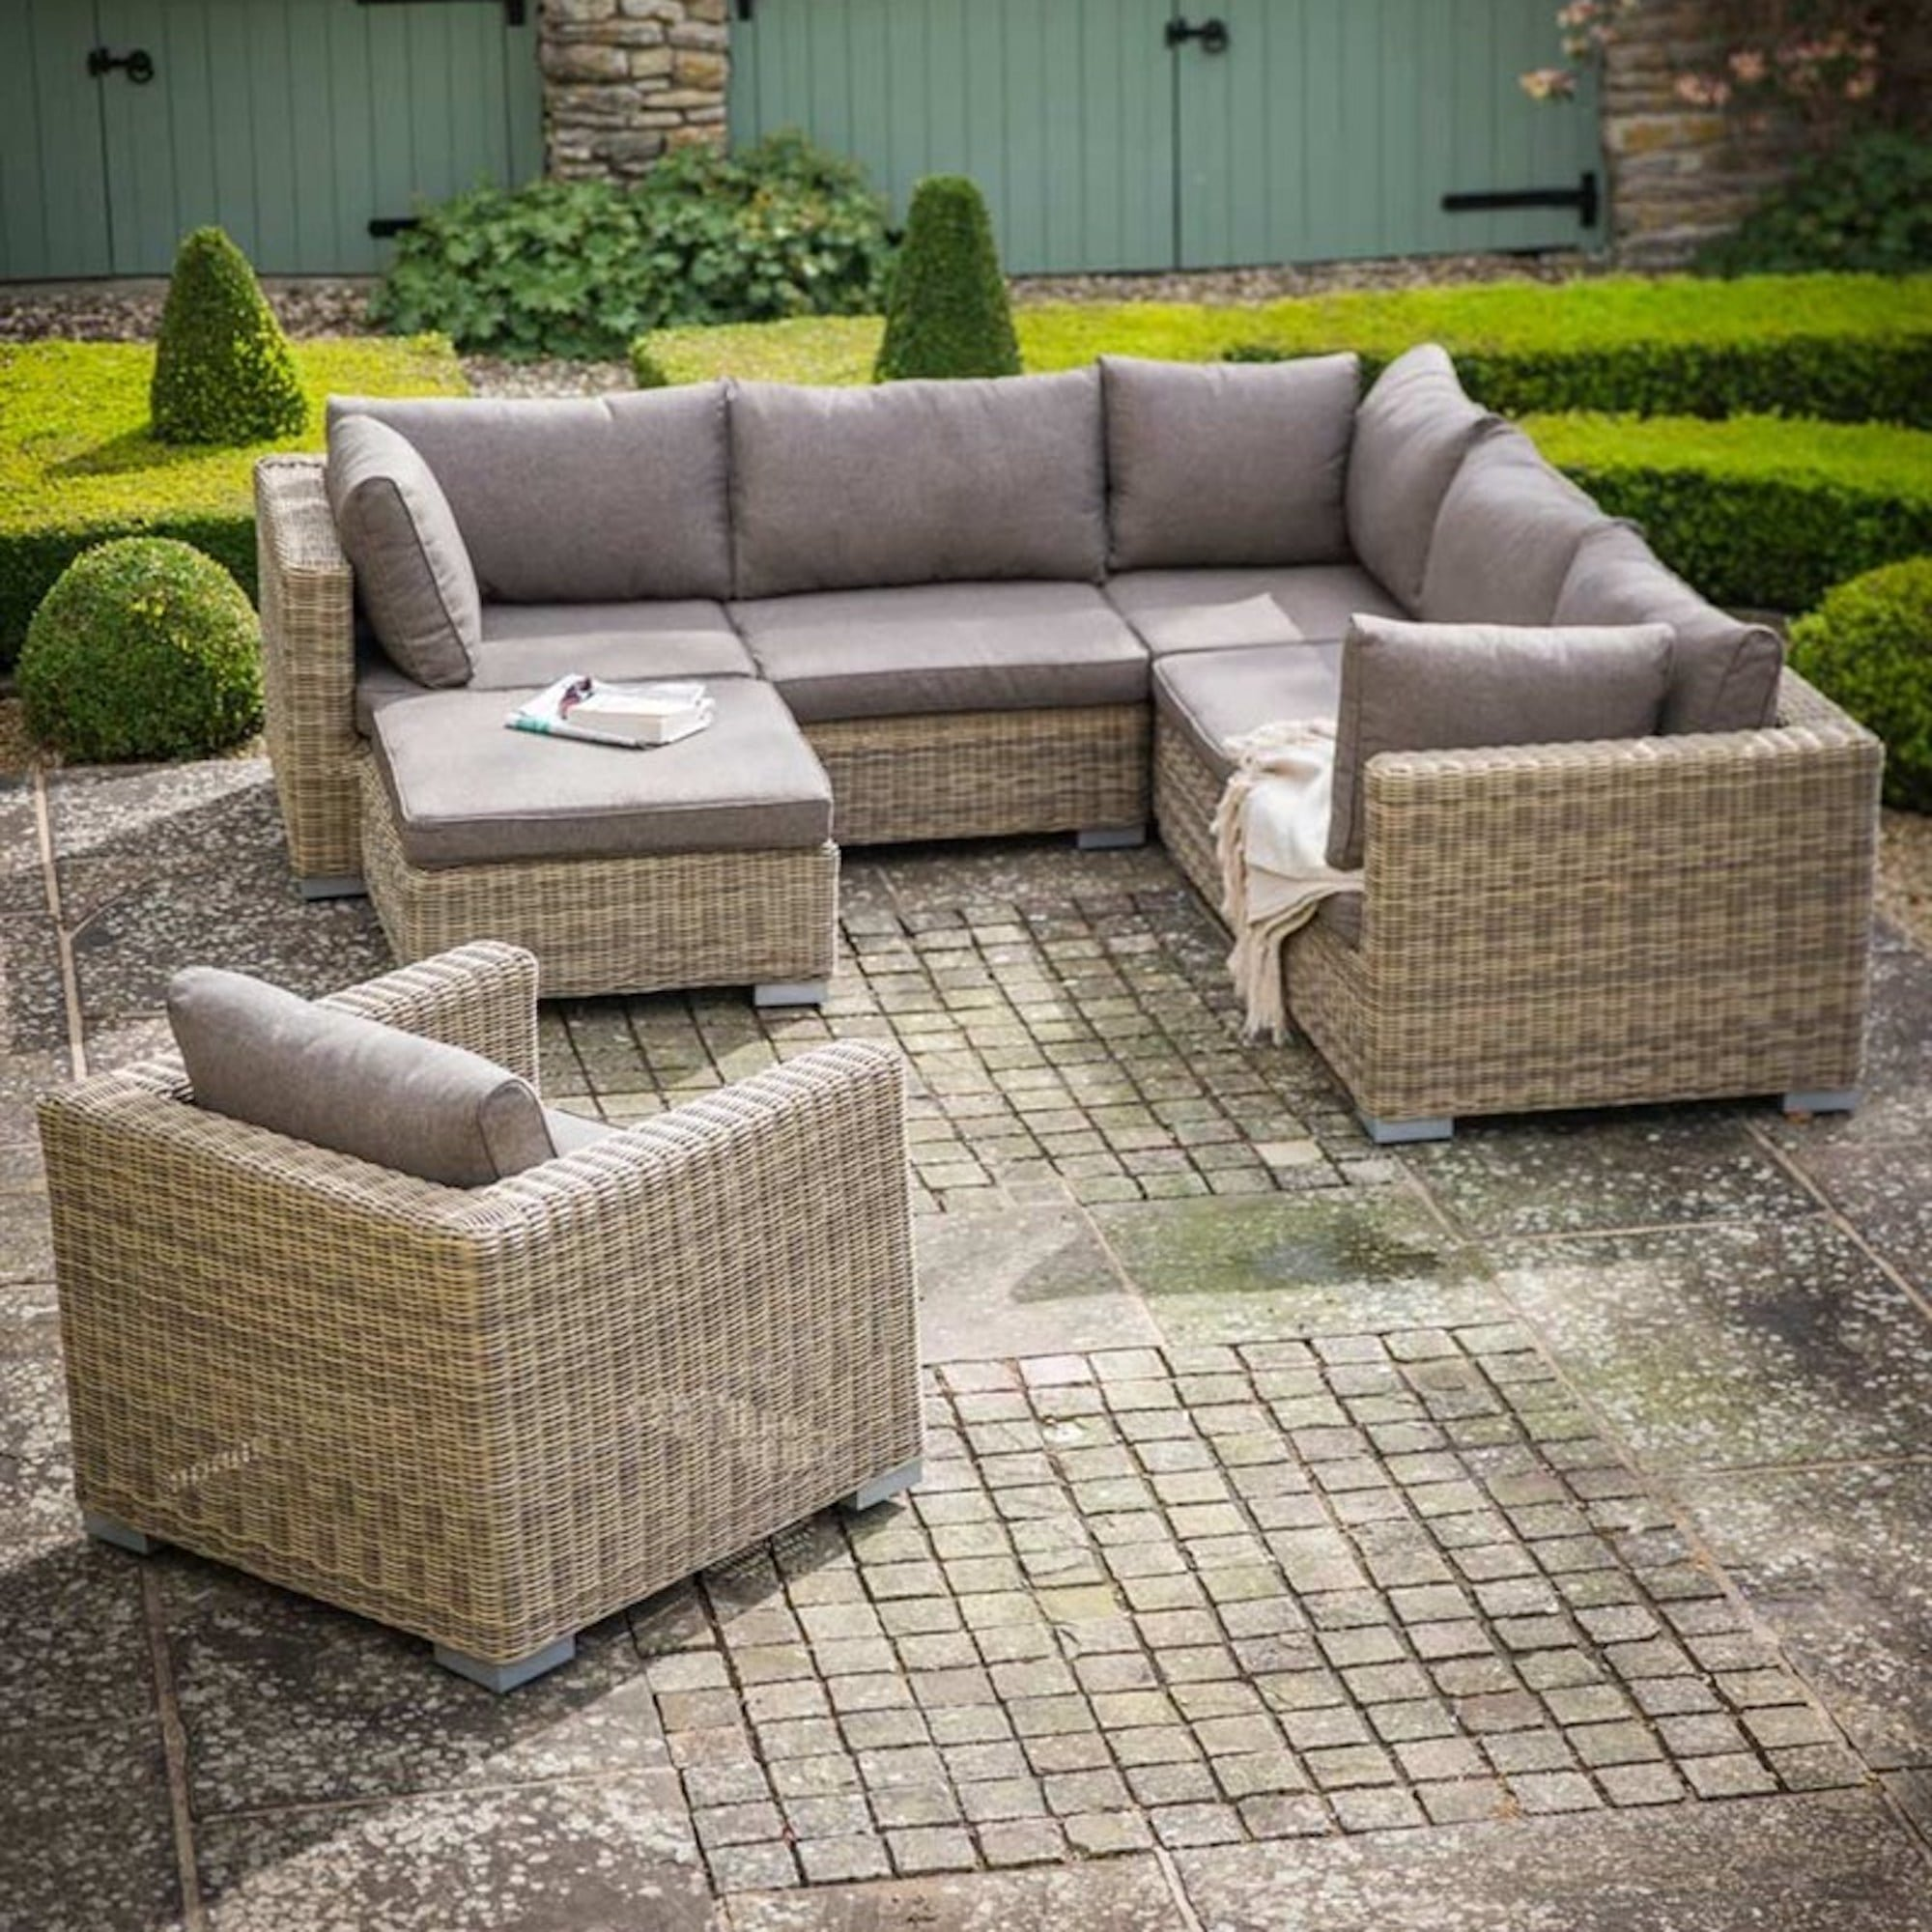chairs: (230, 354, 1884, 1141), (39, 934, 968, 1691)
